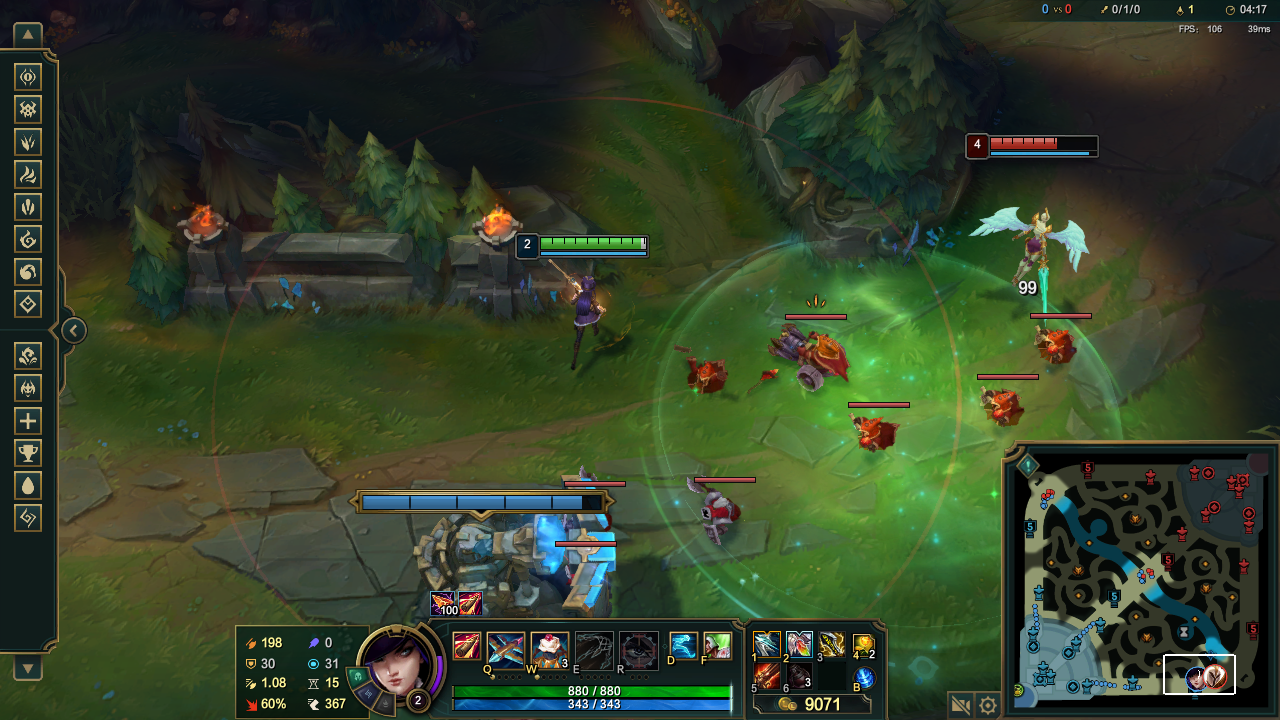DFYX: (989, 136, 1097, 151)
